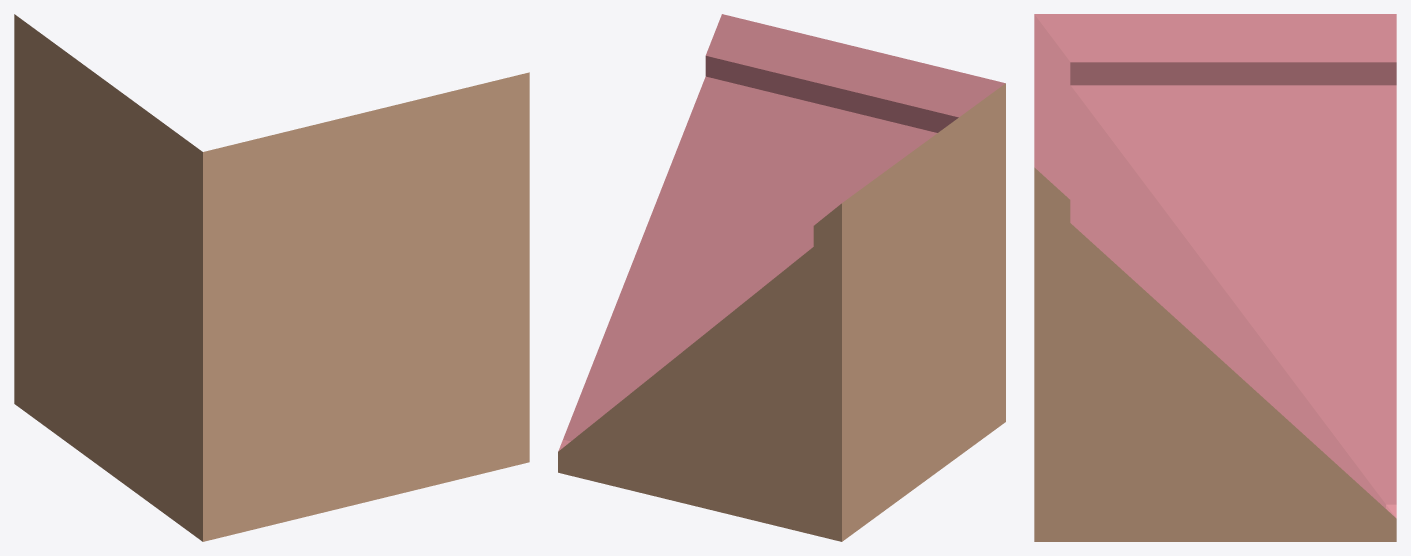
Rendered from roofHighCornerInner.glb.
The picture shows the model from 3 angles, left to right: view 1: azimuth 30°, elevation 25°; view 2: azimuth 150°, elevation 25°; view 3: azimuth 270°, elevation 25°; orthographic projection. The views are drawn at different scales.
Parts seen in each view (by area): view 1: roofHighCornerInner; view 2: roofHighCornerInner; view 3: roofHighCornerInner.
Part boxes in pixels (x1,y1,x2,y2): roofHighCornerInner: (14, 14, 529, 541); roofHighCornerInner: (558, 14, 1005, 541); roofHighCornerInner: (1034, 14, 1396, 541).
Bounding box in the file's own units: 1 × 1.14 × 1.
